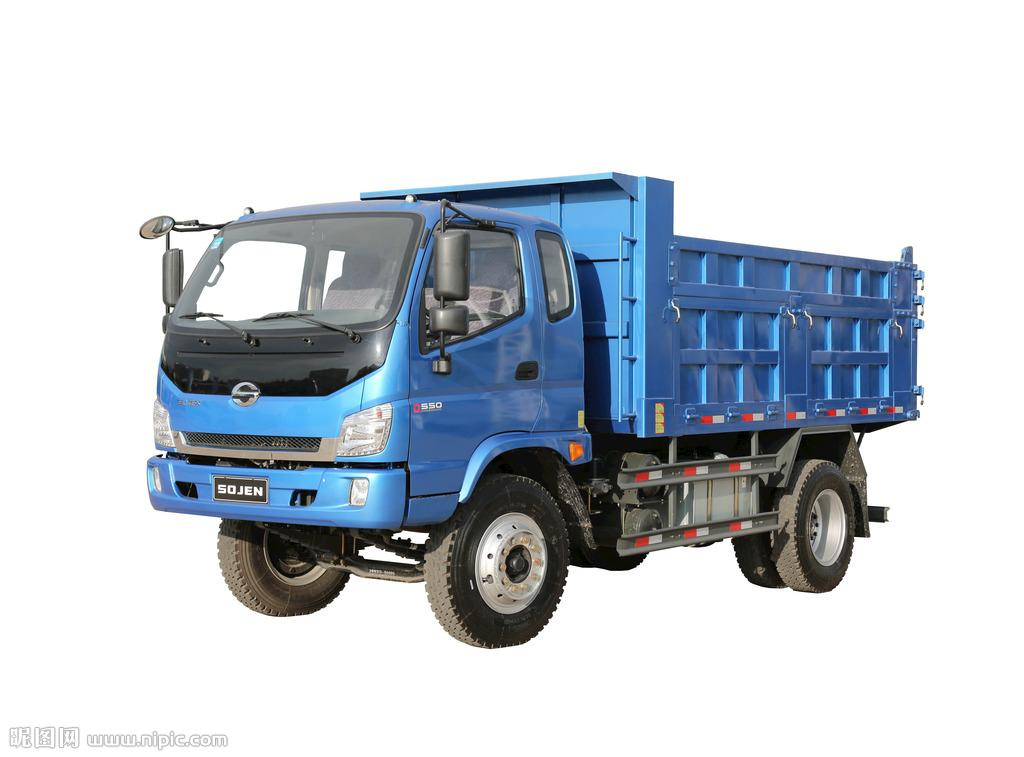truck: (118, 150, 937, 662)
